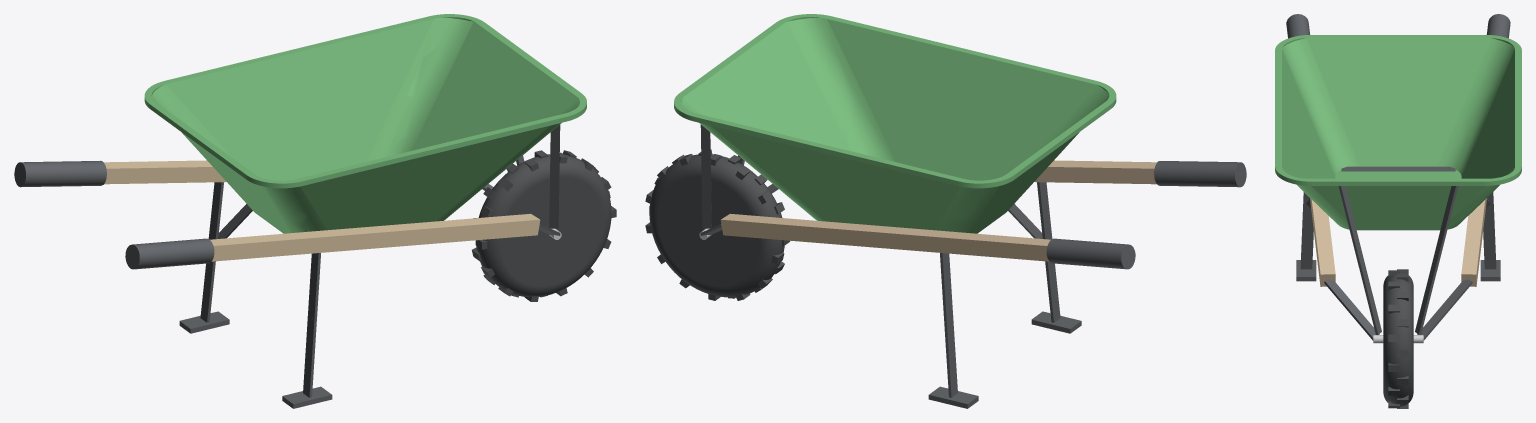
File: Contractor_Wheelbarrow.glb
The picture shows the model from 3 angles, left to right: view 1: azimuth 30°, elevation 25°; view 2: azimuth 150°, elevation 25°; view 3: azimuth 270°, elevation 25°; orthographic projection. The views are drawn at different scales.
Parts seen in each view (by area): view 1: tray, tyre, grips, handles; view 2: tray, tyre, grips, handles; view 3: tray, grips, tyre, handles.
Part boxes in pixels (x1,y1,x2,y2): tray: (144, 14, 586, 233); tyre: (472, 150, 616, 301); grips: (14, 124, 560, 408); handles: (104, 160, 540, 261); tray: (674, 14, 1116, 233); tyre: (645, 149, 790, 300); grips: (700, 124, 1246, 408); handles: (720, 160, 1156, 261); tray: (1275, 35, 1521, 230); grips: (1286, 14, 1510, 340); tyre: (1383, 269, 1413, 408); handles: (1310, 198, 1486, 286).
Bounding box in the file's own units: 33.19 × 14.22 × 14.72.
